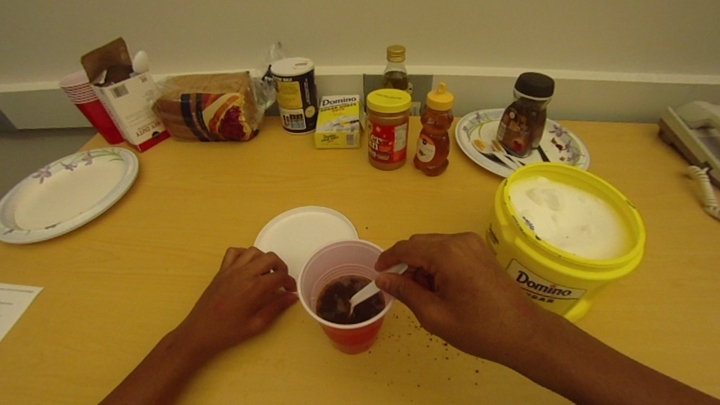hand: (374, 229, 529, 348), (194, 236, 297, 361)
